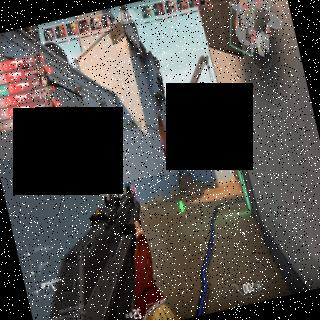ENEMY-BODY: (128, 182, 138, 202), (159, 134, 166, 156)
ENEMY-HEAD: (131, 184, 133, 188), (160, 136, 162, 138)
